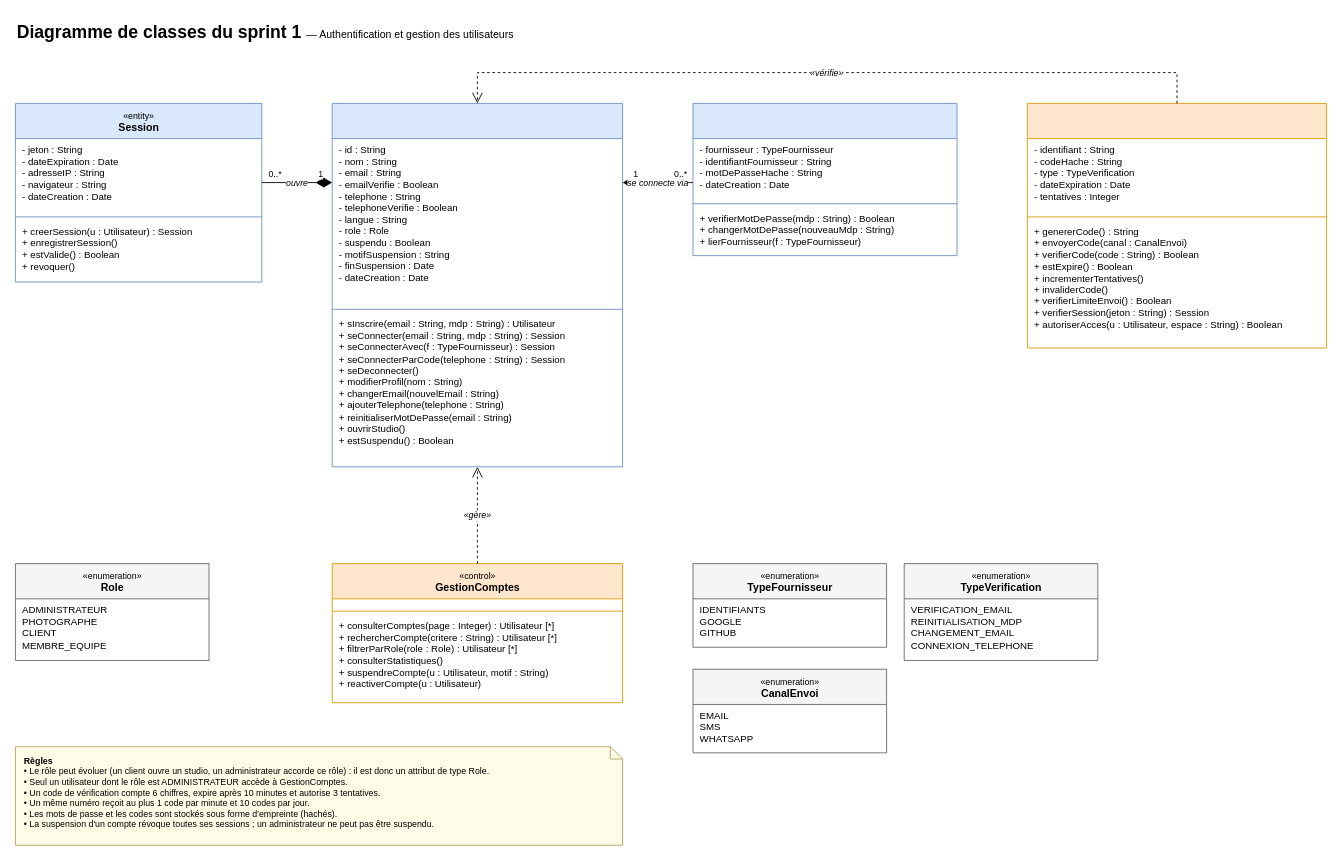
The diagram is 1342 pixels wide and 861 high, and some of its shapes have lost their labels. Here are the shapes that lost their labels. From the top down, the box of each, then its label:
(692, 103, 957, 256): «entity» Compte
(1027, 103, 1327, 348): «control» Verification
(331, 103, 623, 467): «entity» Utilisateur
